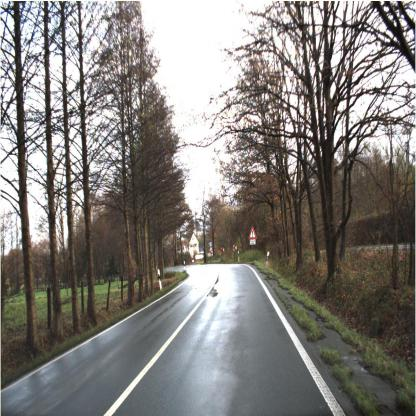danger: (246, 221, 258, 242)
